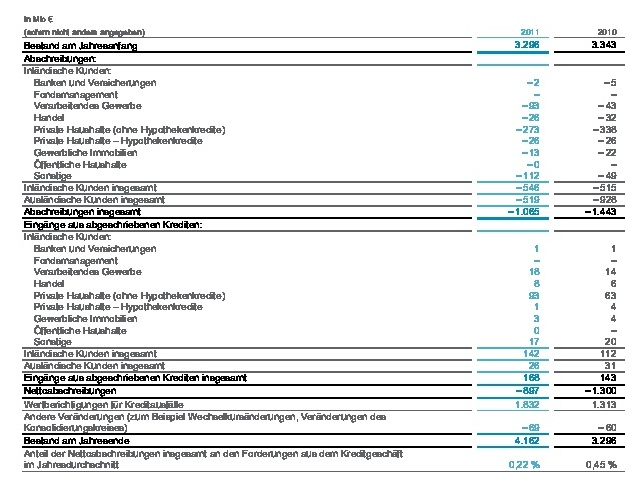table: (0, 0, 643, 493)
